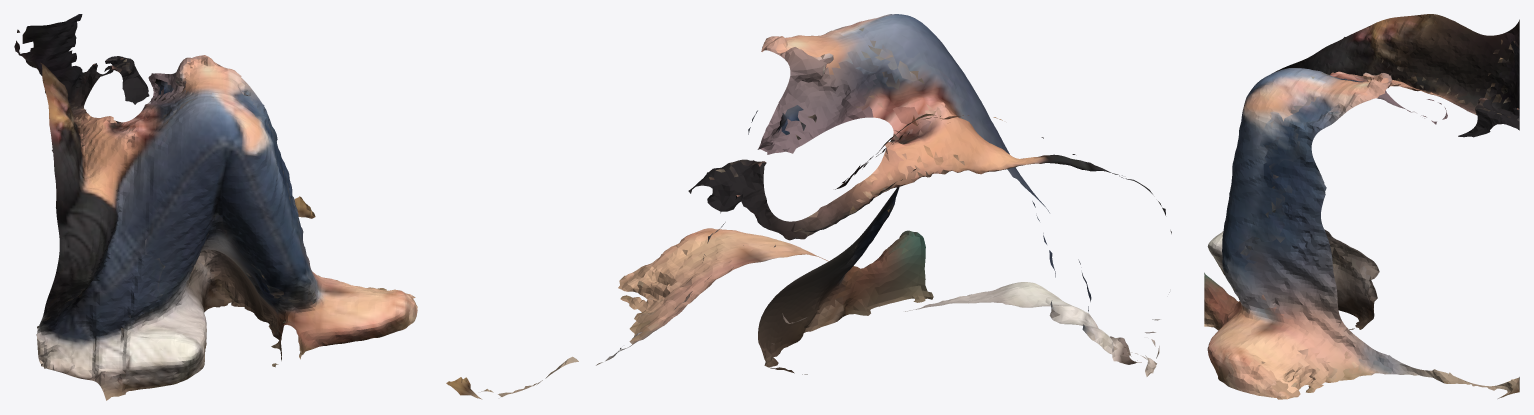
3 renders of one model, left to right at view 1: azimuth 30°, elevation 25°; view 2: azimuth 150°, elevation 25°; view 3: azimuth 270°, elevation 25°, orthographic. The views are drawn at different scales.
Bounding box in the file's own units: 0.7255 × 0.4446 × 0.5154.
Materials: 1 (1 with a texture image).
